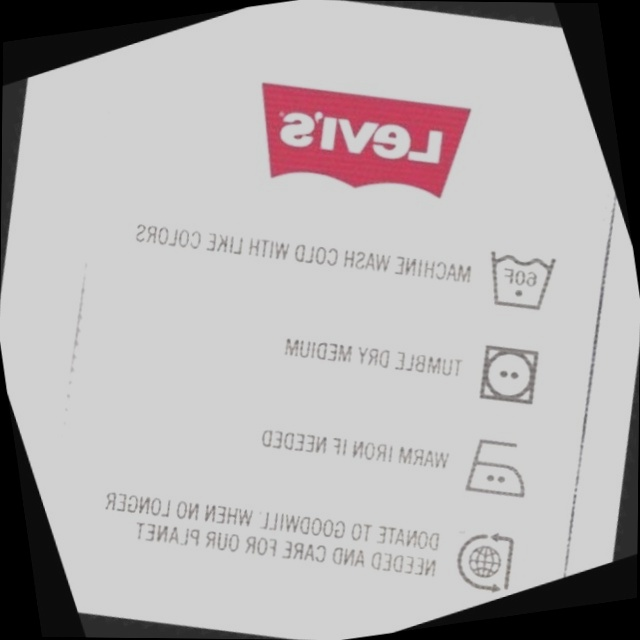30C: (472, 226, 570, 327)
iron_medium: (443, 419, 543, 518)
tumble_dry_medium: (457, 325, 556, 423)
